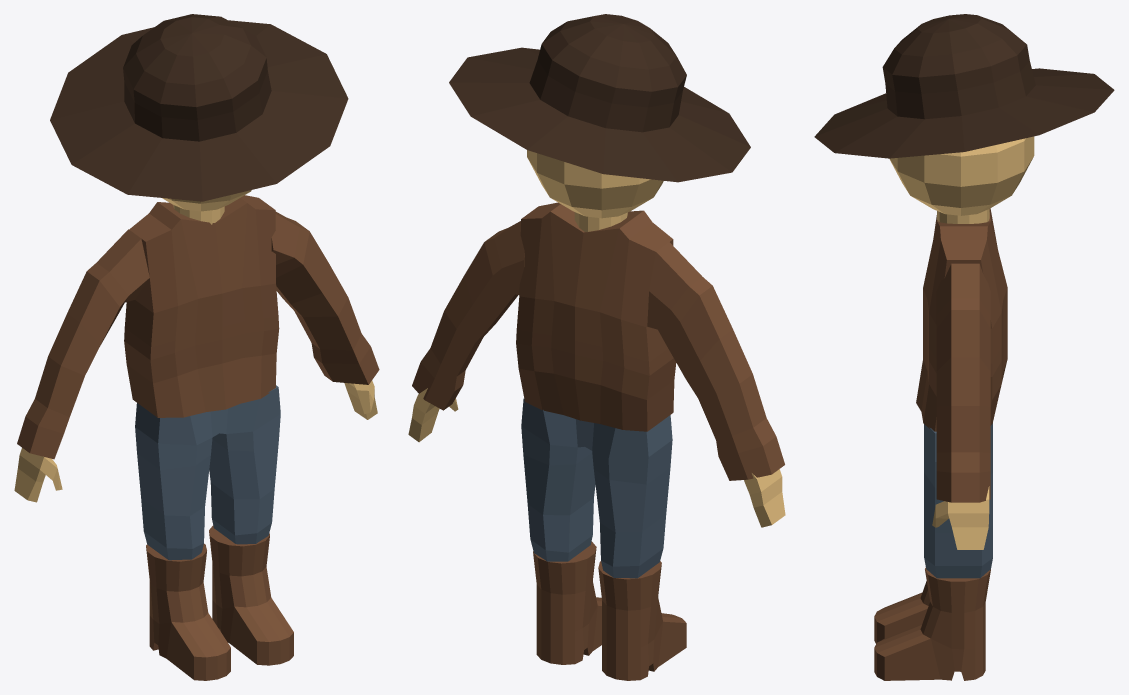
File: poacher.fbx
3 views of the same model, side by side, from view 1: azimuth 30°, elevation 25°; view 2: azimuth 150°, elevation 25°; view 3: azimuth 270°, elevation 25° (orthographic). The views are drawn at different scales.
Visible parts, largest first — view 1: Sphere.001, Plane, Plane.002, Plane.001, Plane.003, Cylinder.001, Cylinder.002, Cube.001, Cube, Sphere; view 2: Sphere.001, Plane, Plane.002, Plane.001, Plane.003, Cylinder.001, Cylinder.002, Sphere, Cube.001, Cube, Cylinder; view 3: Sphere.001, Plane.003, Cylinder.002, Plane, Sphere, Plane.002, Cube, Cylinder.001, Cylinder.
Part boxes in pixels (x1,y1,x2,y2): Sphere.001: [50, 14, 348, 201]; Plane: [124, 195, 279, 417]; Plane.002: [135, 385, 280, 560]; Plane.001: [17, 229, 149, 459]; Plane.003: [271, 211, 379, 384]; Cylinder.001: [146, 543, 230, 680]; Cylinder.002: [209, 525, 293, 665]; Cube.001: [14, 448, 62, 502]; Cube: [344, 380, 377, 419]; Sphere: [162, 190, 251, 211]; Sphere.001: [449, 14, 750, 182]; Plane: [516, 202, 676, 431]; Plane.002: [521, 398, 672, 578]; Plane.001: [647, 242, 784, 480]; Plane.003: [412, 221, 524, 410]; Cylinder.001: [598, 561, 686, 680]; Cylinder.002: [533, 541, 601, 664]; Sphere: [527, 150, 663, 218]; Cube.001: [744, 469, 785, 527]; Cube: [408, 388, 458, 442]; Cylinder: [574, 212, 627, 231]; Sphere.001: [814, 14, 1114, 158]; Plane.003: [936, 263, 990, 502]; Cylinder.002: [874, 567, 990, 680]; Plane: [916, 208, 1007, 431]; Sphere: [889, 136, 1034, 215]; Plane.002: [924, 423, 992, 578]; Cube: [932, 486, 989, 549]; Cylinder.001: [874, 581, 929, 643]; Cylinder: [937, 209, 989, 223].
Bounding box in the file's own units: 548 × 925 × 400.
